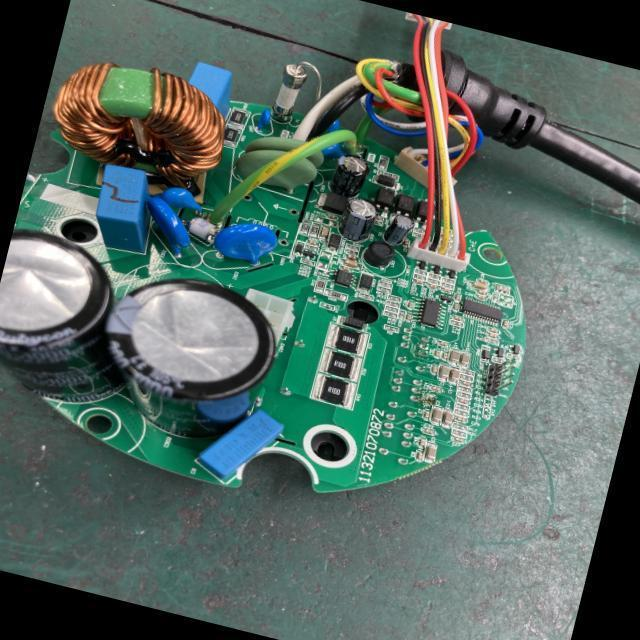damged: (423, 392, 436, 405)
